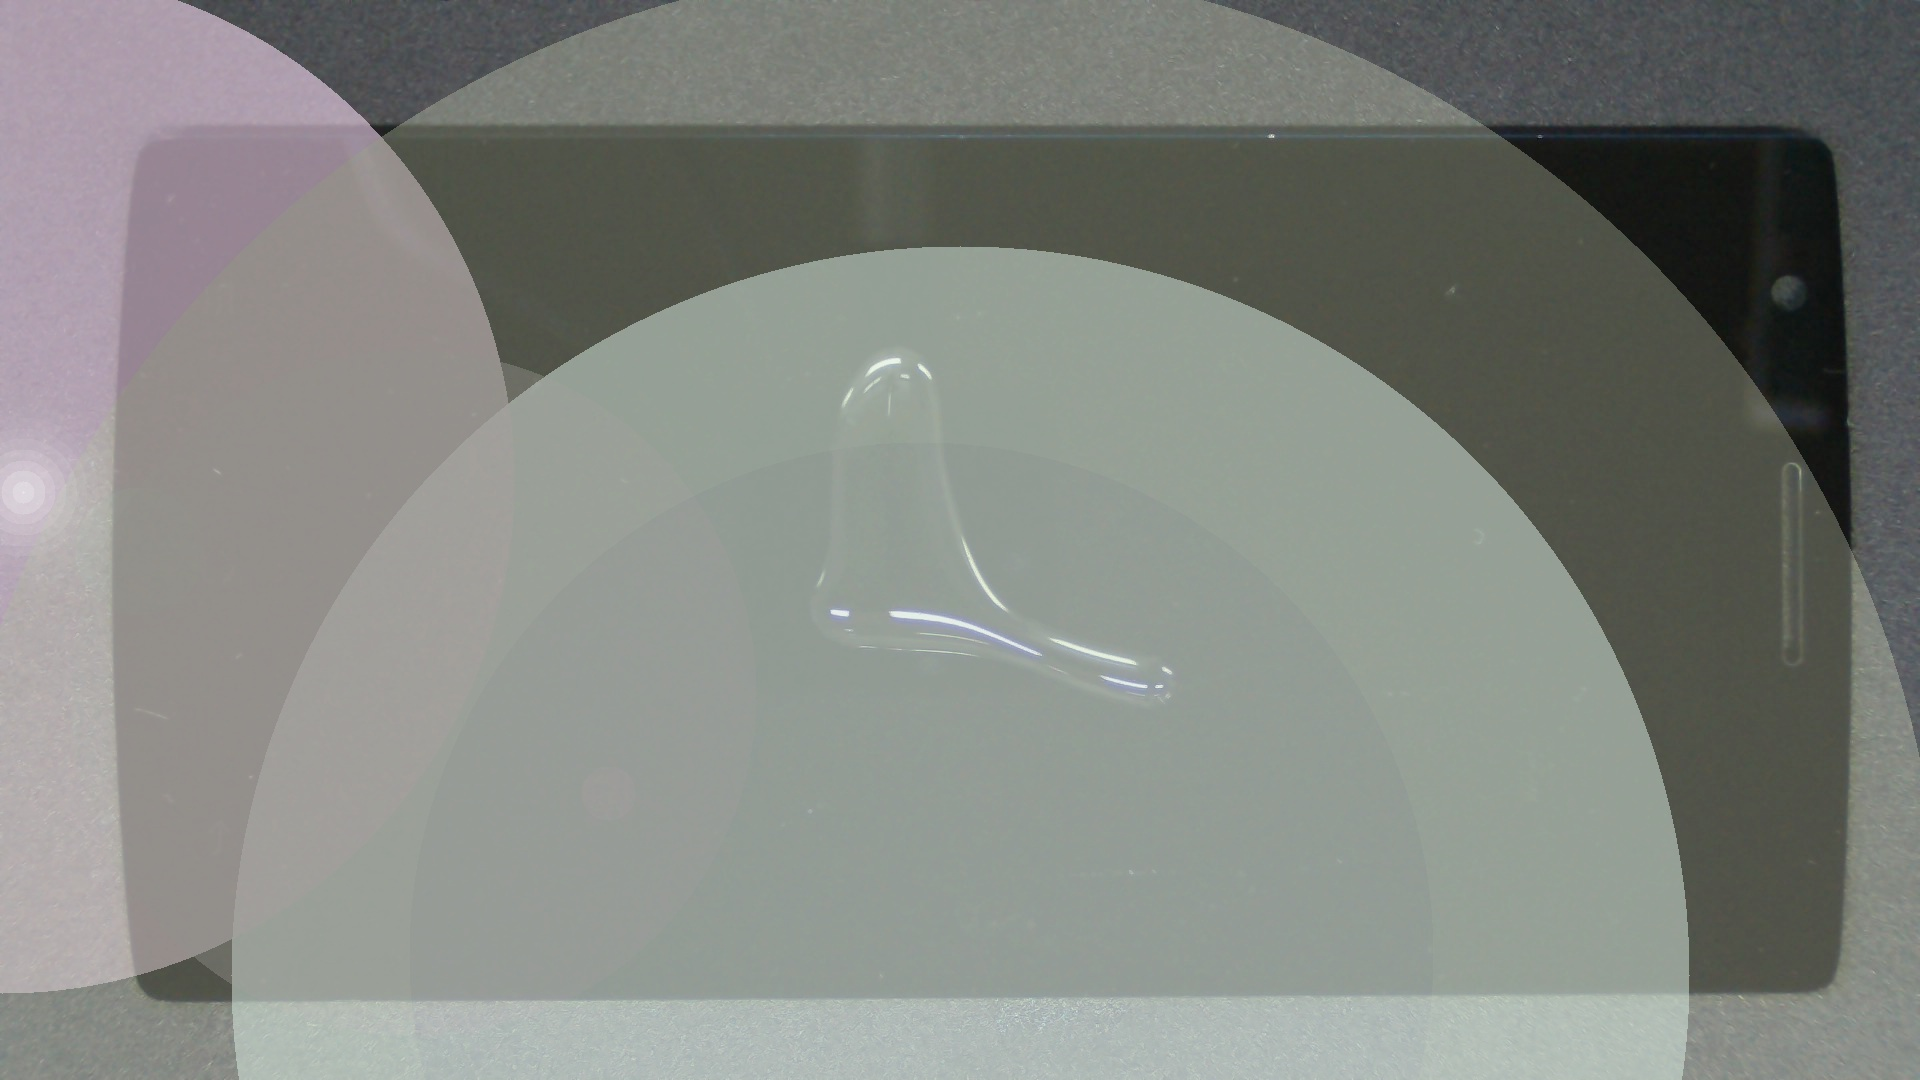oil: (446, 171, 1336, 518)
